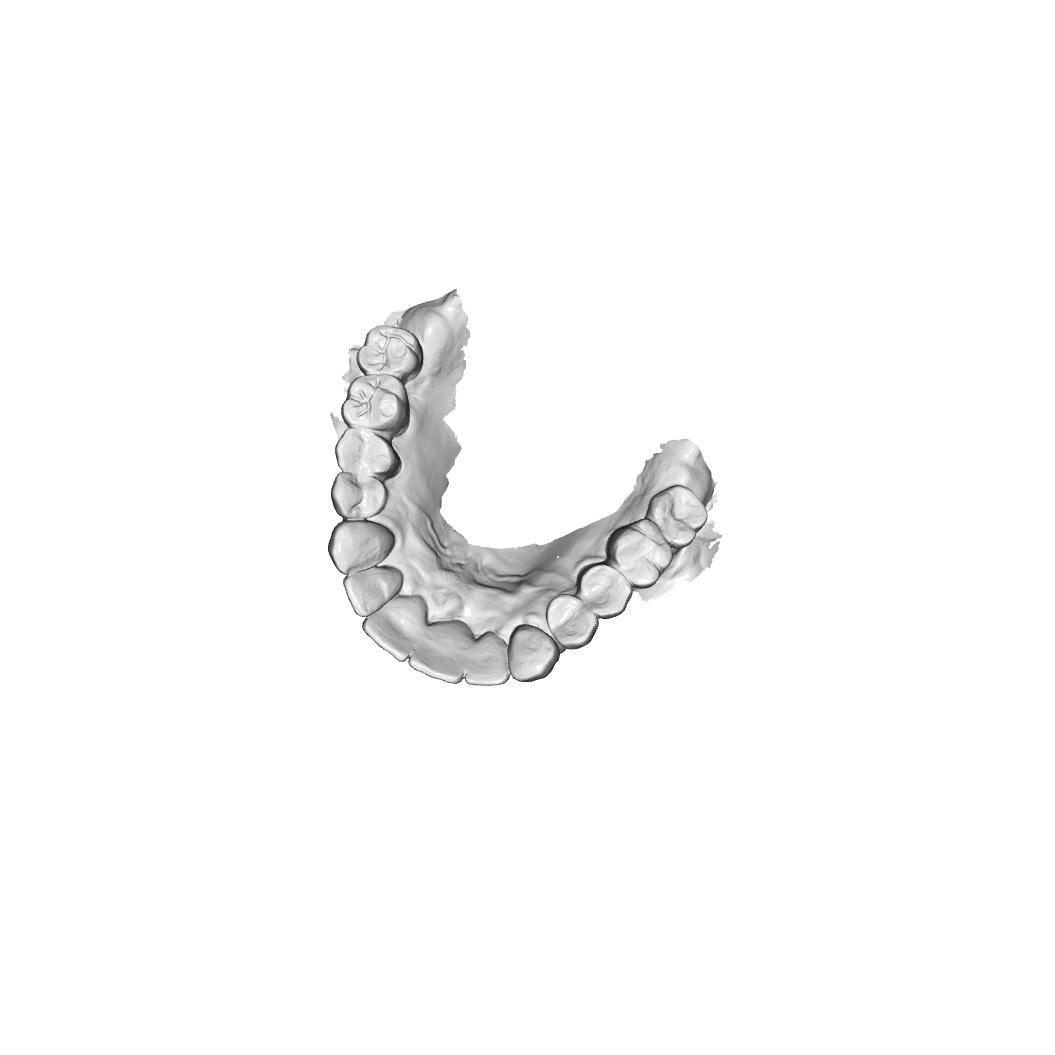canine: (326, 519, 396, 576), (507, 622, 561, 684)
incisor: (361, 596, 427, 664), (408, 620, 467, 685), (343, 565, 404, 619), (465, 629, 511, 688)
molar: (604, 517, 674, 590), (339, 374, 412, 439), (645, 483, 709, 551), (356, 324, 424, 385)
premolar: (333, 427, 402, 480), (575, 562, 633, 621), (545, 594, 600, 650), (330, 471, 389, 520)
